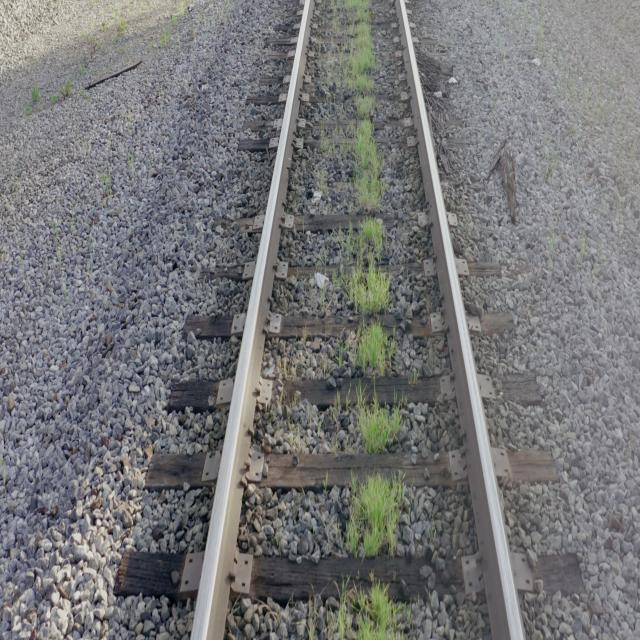Plant: (345, 0, 394, 376), (346, 476, 405, 558), (349, 582, 396, 640), (358, 393, 401, 453), (370, 582, 392, 629), (338, 598, 351, 638)
